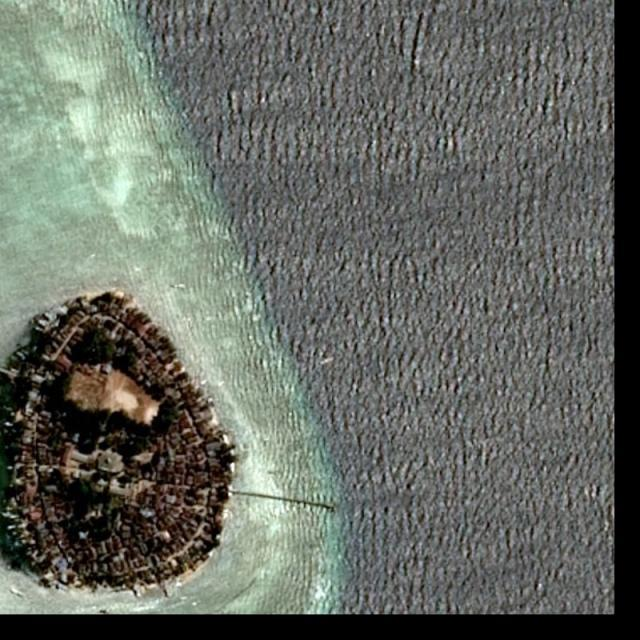ship: (9, 585, 27, 601), (173, 285, 189, 290)
